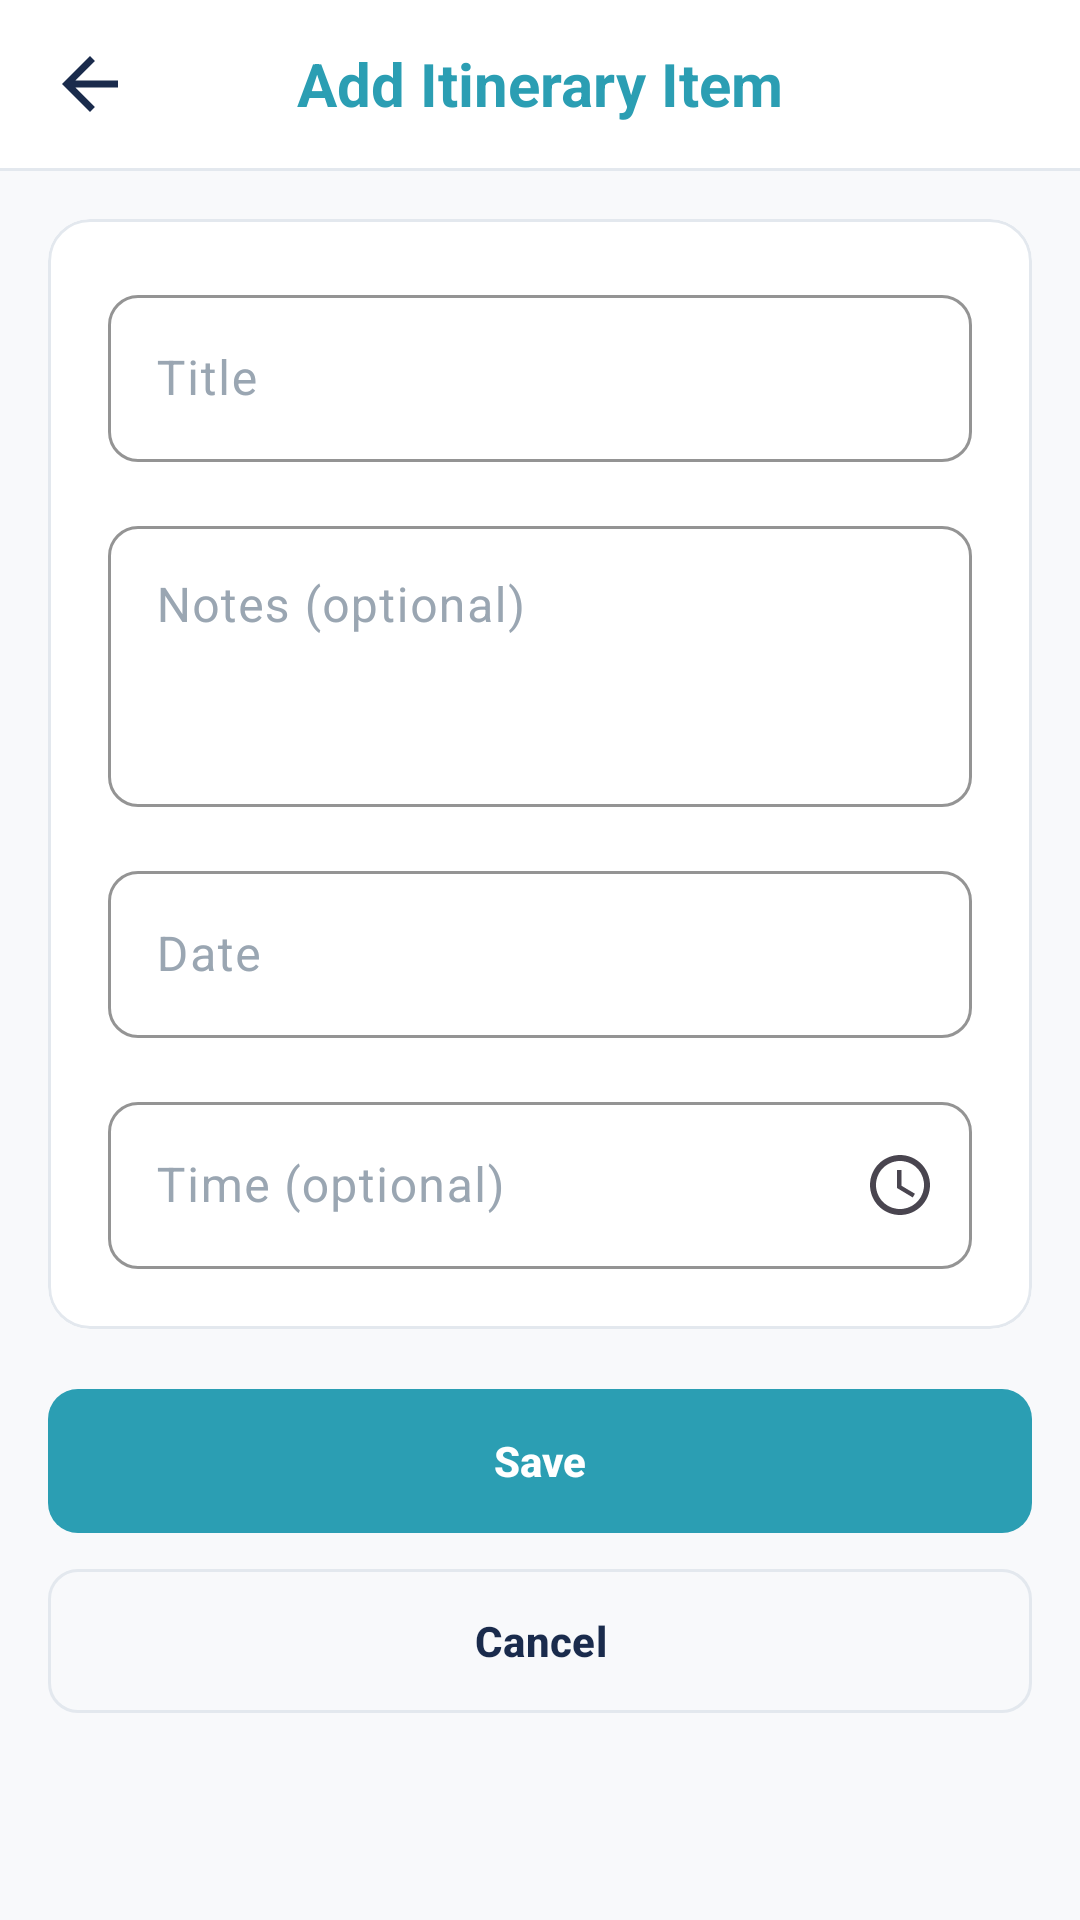

Locate icon controls on the screen. Image size 1080px×1920px, boxes as (x1, y1, x2, y2).
Back: (62, 56, 118, 112)
